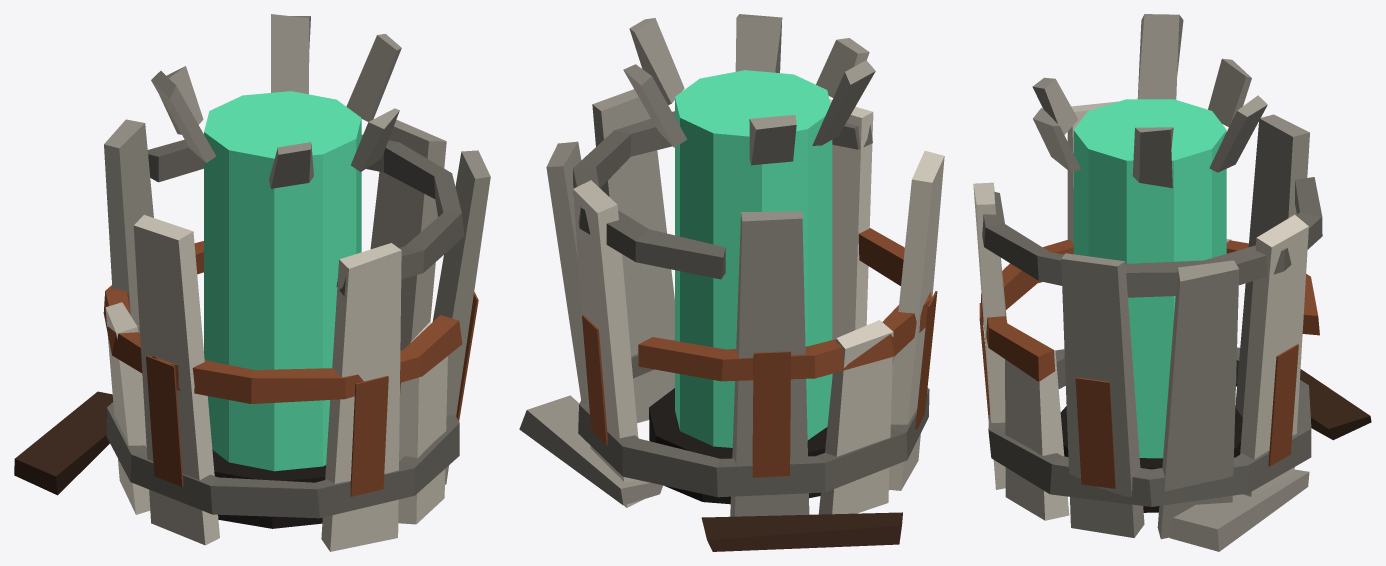
File: reactor.glb
3 views of the same model, side by side, from view 1: azimuth 30°, elevation 25°; view 2: azimuth 150°, elevation 25°; view 3: azimuth 270°, elevation 25° (orthographic). The views are drawn at different scales.
Parts seen in each view (by area): view 1: reactor; view 2: reactor; view 3: reactor.
Boxes of the visible parts, x1,y1,x2,y2 form: reactor: (14, 14, 490, 551); reactor: (519, 14, 944, 551); reactor: (973, 14, 1371, 551).
Size of the model in its own units: 14.57 by 14.87 by 13.01.
